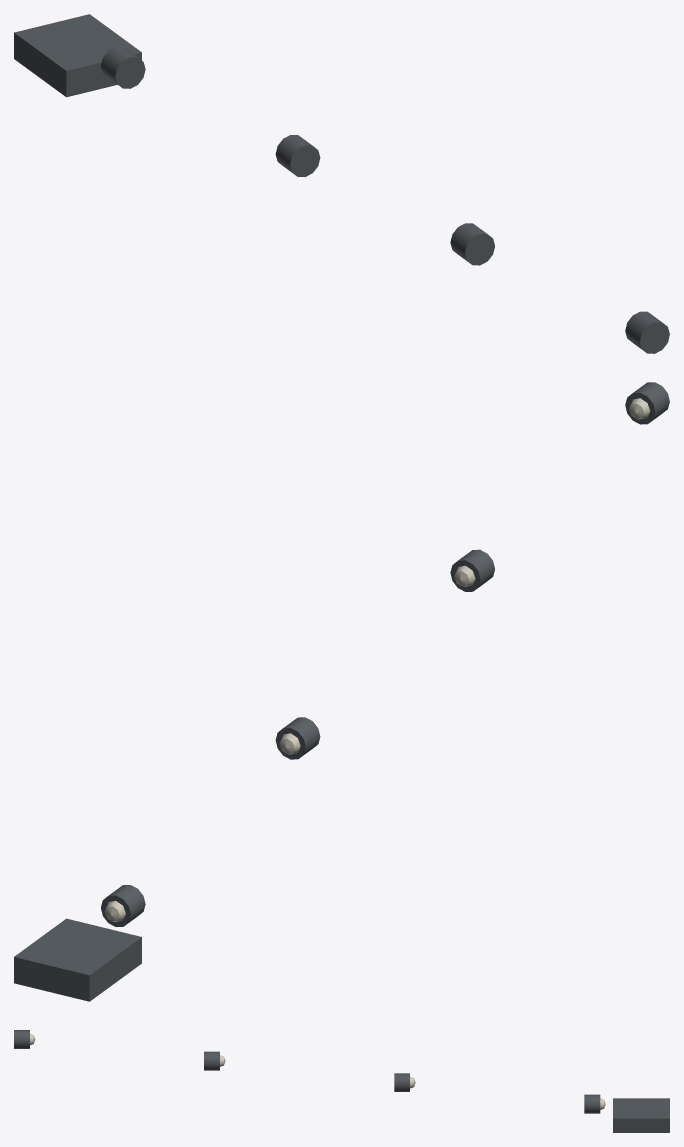
Rendered from n1_sensors.obj.
3 views of the same model, one above another, from view 1: azimuth 30°, elevation 25°; view 2: azimuth 150°, elevation 25°; view 3: azimuth 270°, elevation 25° (orthographic). The views are drawn at different scales.
Parts seen in each view (by area): view 1: n1_sensors; view 2: n1_sensors; view 3: n1_sensors.
Part boxes in pixels (left/top/right/bottom): n1_sensors: left=14, top=14, right=669, bottom=353; n1_sensors: left=14, top=382, right=669, bottom=1001; n1_sensors: left=14, top=1030, right=669, bottom=1132.
Size of the model in its own units: 0.21 by 0.448 by 2.9.
